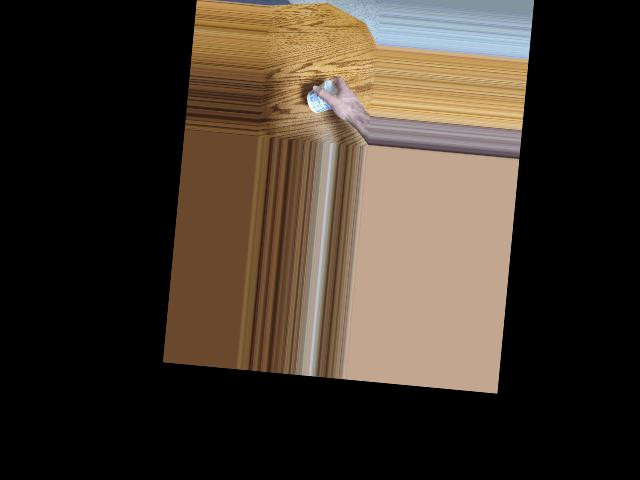cotage: (304, 77, 340, 117)
